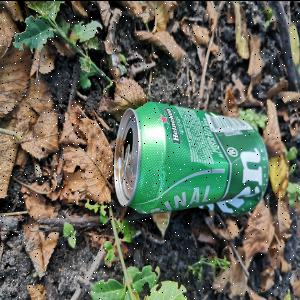Can: (114, 100, 272, 216)
